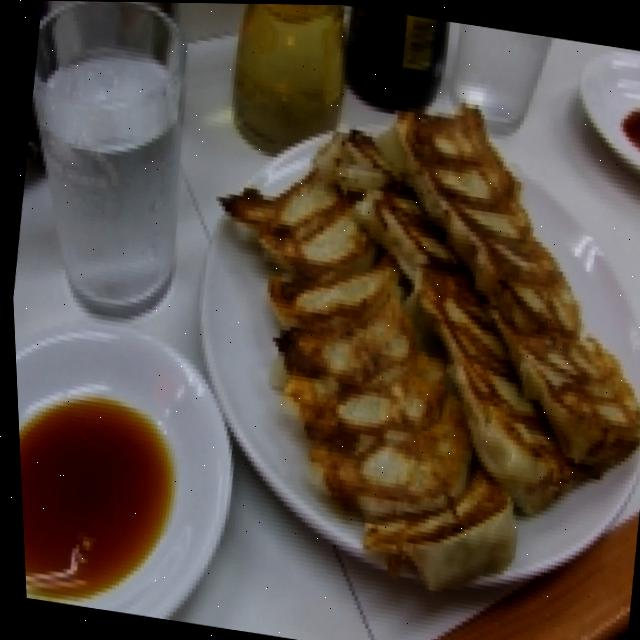带馅早点: (175, 55, 640, 621)
